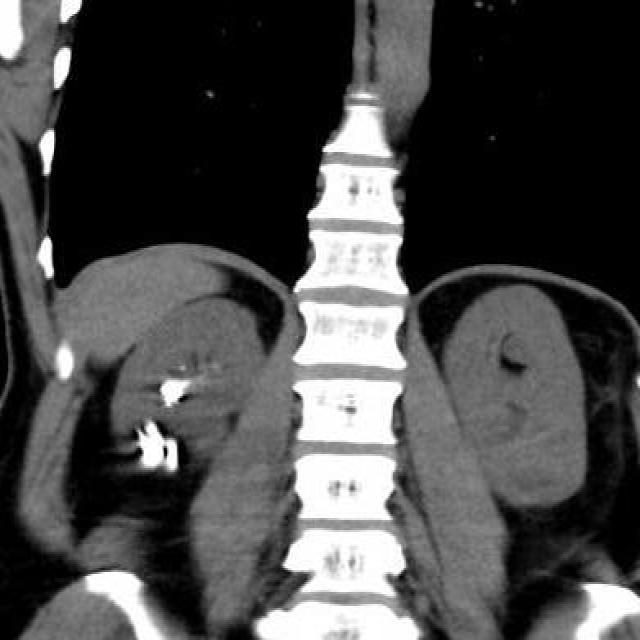Tas_Var: (134, 412, 164, 474), (154, 377, 196, 415), (164, 435, 181, 473), (178, 361, 188, 373)
